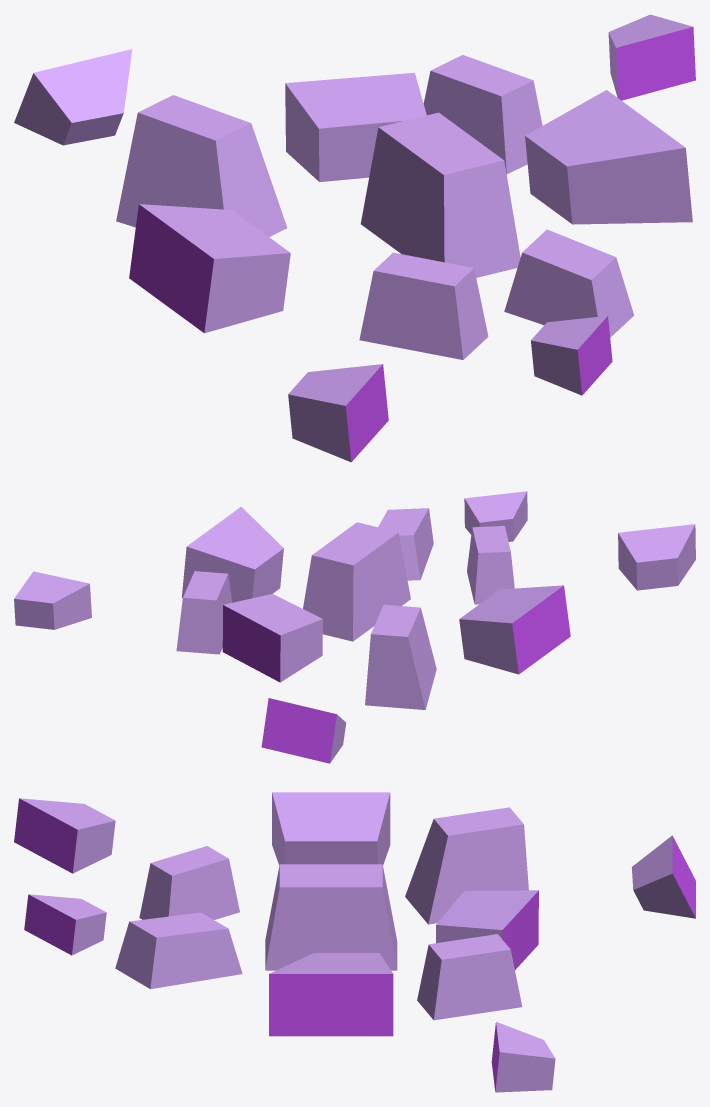
Rendered from onion08.gltf.
The picture shows the model from 3 angles, top to bottom: view 1: azimuth 30°, elevation 25°; view 2: azimuth 150°, elevation 25°; view 3: azimuth 270°, elevation 25°; orthographic projection. The views are drawn at different scales.
Visible parts, largest first — view 1: Cube.011; view 2: Cube.011; view 3: Cube.011.
Part boxes in pixels (x1,y1,x2,y2): Cube.011: (14, 14, 695, 462); Cube.011: (14, 491, 695, 763); Cube.011: (14, 792, 695, 1092).
Size of the model in its own units: 0.0348 by 0.00531 by 0.039.
Materials: 1 (1 with a texture image).
